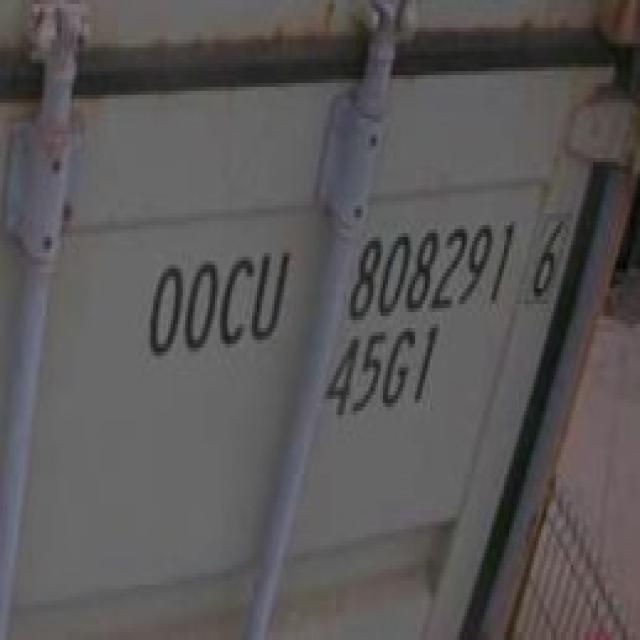dv: (526, 210, 572, 309)
owner: (146, 240, 294, 372)
serial: (344, 216, 520, 324)
size: (319, 325, 449, 424)
